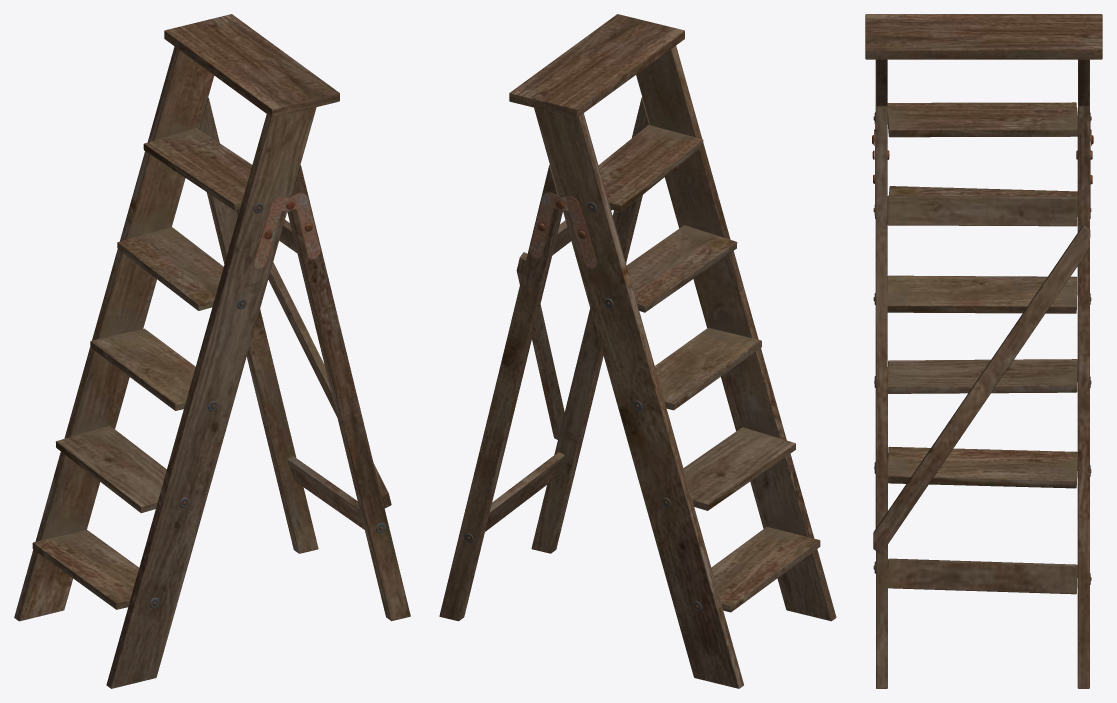
3 renders of one model, left to right at view 1: azimuth 30°, elevation 25°; view 2: azimuth 150°, elevation 25°; view 3: azimuth 270°, elevation 25°, orthographic. The views are drawn at different scales.
Parts seen in each view (by area): view 1: wooden_ladder_02; view 2: wooden_ladder_02; view 3: wooden_ladder_02.
Boxes of the visible parts, box(x1,y1,x2,y2) form: wooden_ladder_02: box(14, 14, 410, 688); wooden_ladder_02: box(439, 14, 836, 688); wooden_ladder_02: box(865, 14, 1102, 688).
Bounding box in the file's own units: 0.9895 × 1.72 × 0.6181.
Materials: 1 (1 with a texture image).
